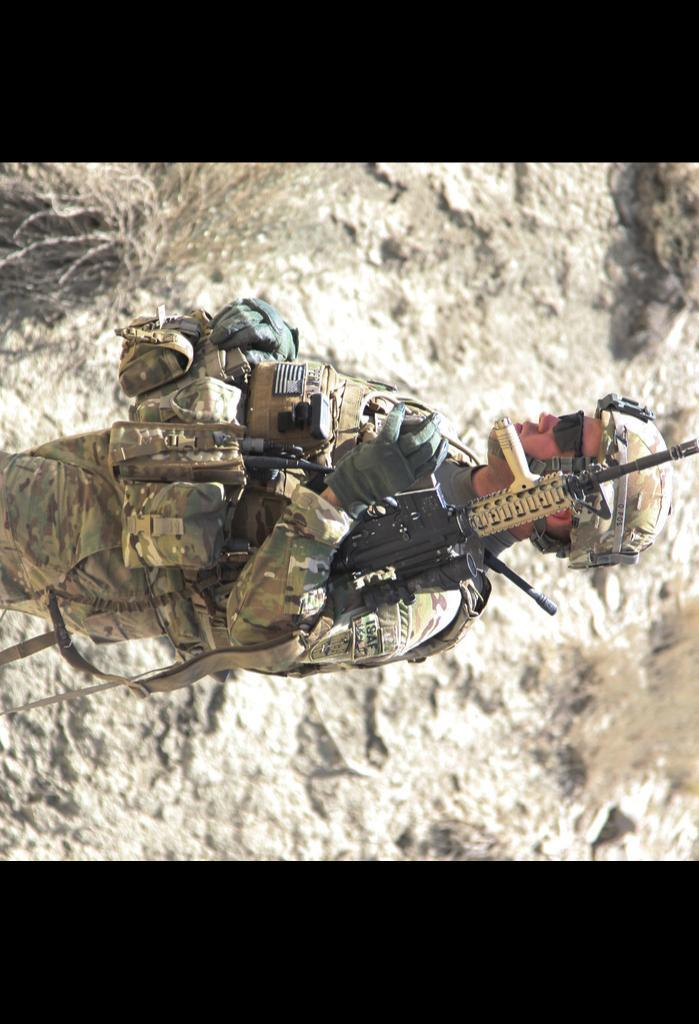gun: (161, 398, 698, 620)
